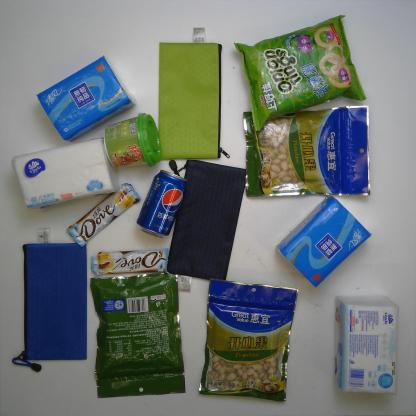Chocolate: (58, 183, 142, 250), (85, 242, 174, 278)
Dried Fruit: (239, 101, 380, 202), (86, 269, 193, 398), (196, 274, 302, 403)
Drink: (133, 167, 190, 241)
Instant Drink: (102, 112, 163, 171)
Puffed Food: (236, 9, 366, 126)
Stationery: (10, 225, 92, 371), (162, 152, 252, 282), (155, 35, 229, 163)
Tissue: (270, 193, 374, 292), (29, 56, 140, 140), (9, 131, 121, 212), (332, 292, 402, 399)
